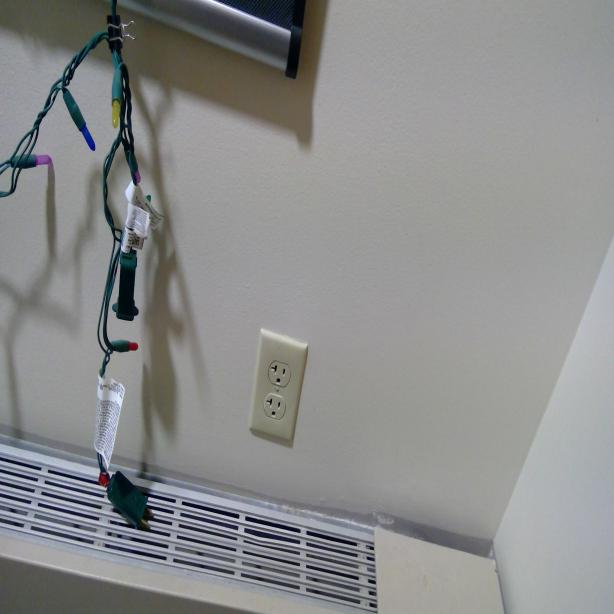typeb: (266, 354, 290, 388), (264, 394, 286, 423)
